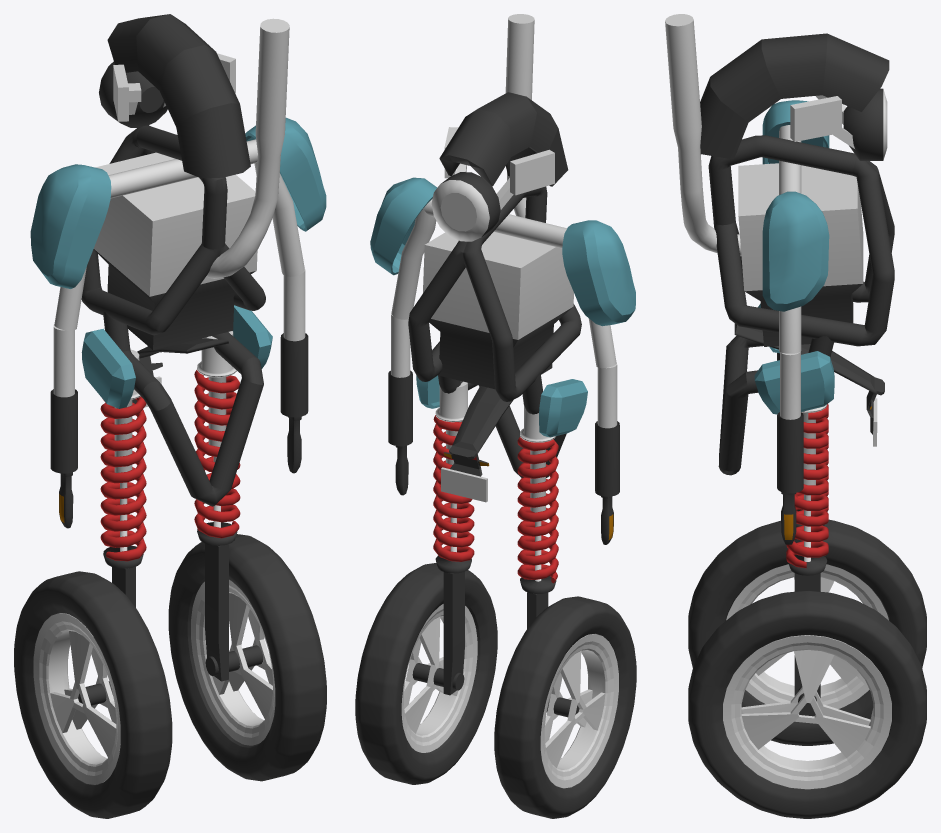
Rendered from bikeman.fbx.
3 renders of one model, left to right at view 1: azimuth 30°, elevation 25°; view 2: azimuth 150°, elevation 25°; view 3: azimuth 270°, elevation 25°, orthographic. The views are drawn at different scales.
Parts seen in each view (by area): view 1: tire, tire1, engine, Ffender, wheel, frame2, frame1, tank, muffler, wheel1, Lsuspension1, Lsuspension2 (+16 smaller); view 2: tire, tire1, engine, frame2, wheel, Ffender, Lsuspension1, tank, wheel1, Lsuspension2, Rfender, ight (+16 smaller); view 3: tire1, wheel1, frame2, tire, Ffender, engine, tank1, muffler, wheel, Lsuspension2, frame1, fork1 (+9 smaller).
Boxes of the visible parts, x1=… form: tire: x1=14, y1=571, x2=172, y2=818; tire1: x1=168, y1=534, x2=326, y2=781; engine: x1=93, y1=152, x2=257, y2=349; Ffender: x1=107, y1=14, x2=250, y2=178; wheel: x1=33, y1=613, x2=120, y2=784; frame2: x1=81, y1=125, x2=265, y2=335; frame1: x1=103, y1=311, x2=263, y2=506; tank: x1=30, y1=164, x2=111, y2=288; muffler: x1=206, y1=18, x2=289, y2=278; wheel1: x1=191, y1=579, x2=275, y2=745; Lsuspension1: x1=100, y1=349, x2=146, y2=568; Lsuspension2: x1=194, y1=331, x2=240, y2=545; tire: x1=494, y1=596, x2=636, y2=818; tire1: x1=355, y1=563, x2=497, y2=784; engine: x1=423, y1=232, x2=573, y2=389; frame2: x1=408, y1=186, x2=581, y2=401; wheel: x1=540, y1=634, x2=618, y2=788; Ffender: x1=439, y1=92, x2=568, y2=186; Lsuspension1: x1=517, y1=405, x2=558, y2=593; tank: x1=562, y1=220, x2=635, y2=326; wheel1: x1=401, y1=604, x2=477, y2=752; Lsuspension2: x1=433, y1=381, x2=474, y2=573; Rfender: x1=441, y1=386, x2=513, y2=502; ight: x1=431, y1=172, x2=500, y2=241; tire1: x1=688, y1=590, x2=926, y2=818; wheel1: x1=723, y1=635, x2=891, y2=789; frame2: x1=708, y1=135, x2=894, y2=346; tire: x1=688, y1=519, x2=926, y2=745; Ffender: x1=700, y1=33, x2=889, y2=159; engine: x1=738, y1=163, x2=863, y2=346; tank1: x1=762, y1=191, x2=829, y2=311; muffler: x1=665, y1=14, x2=741, y2=256; wheel: x1=726, y1=564, x2=888, y2=713; Lsuspension2: x1=786, y1=404, x2=828, y2=575; frame1: x1=718, y1=335, x2=833, y2=475; fork1: x1=777, y1=352, x2=803, y2=493.
Size of the model in its own units: 3.45 by 9.52 by 2.91.
